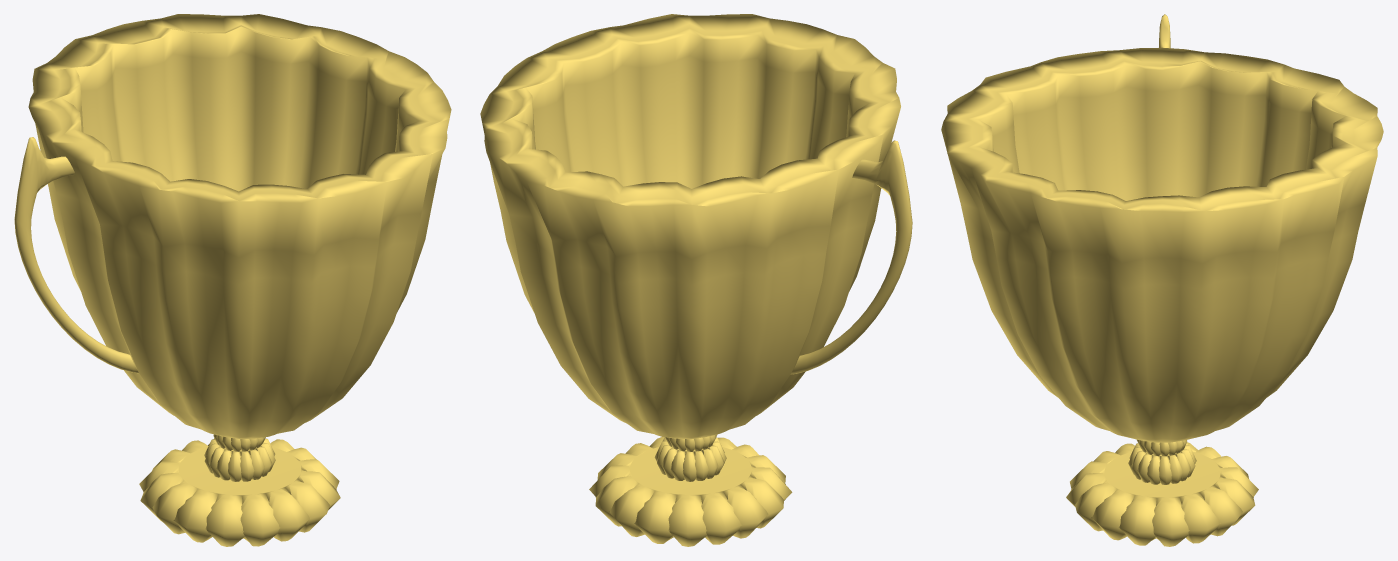
The model's file is awardcupgold.gltf.
The picture shows the model from 3 angles, left to right: view 1: azimuth 30°, elevation 25°; view 2: azimuth 150°, elevation 25°; view 3: azimuth 270°, elevation 25°; orthographic projection. The views are drawn at different scales.
Parts seen in each view (by area): view 1: Sphere, Cylinder.001, Torus.001, Cylinder.004, Cylinder.003; view 2: Sphere, Cylinder.001, Torus.001, Cylinder.004, Cylinder.003; view 3: Sphere, Cylinder.001, Cylinder.004, Cylinder.003.
Boxes of the visible parts, x1,y1,x2,y2 form: Sphere: (28,14,451,438); Cylinder.001: (139,439,340,546); Torus.001: (14,137,138,373); Cylinder.004: (204,438,275,481); Cylinder.003: (213,434,265,451); Sphere: (480,14,900,439); Cylinder.001: (589,437,792,546); Torus.001: (791,140,912,374); Cylinder.004: (654,437,726,481); Cylinder.003: (665,434,717,451); Sphere: (941,47,1383,442); Cylinder.001: (1066,442,1258,546); Cylinder.004: (1128,443,1196,484); Cylinder.003: (1137,439,1187,456).
Bounding box in the file's own units: 1.84 × 1.87 × 1.86.
